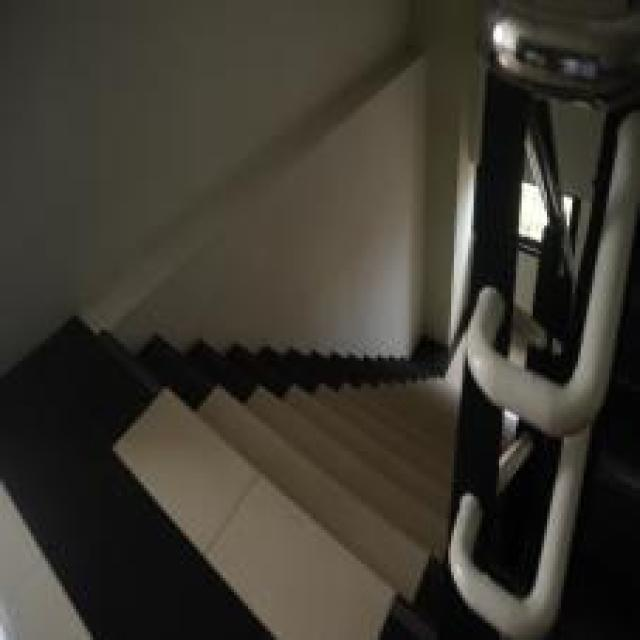downstair: (117, 396, 418, 638)
